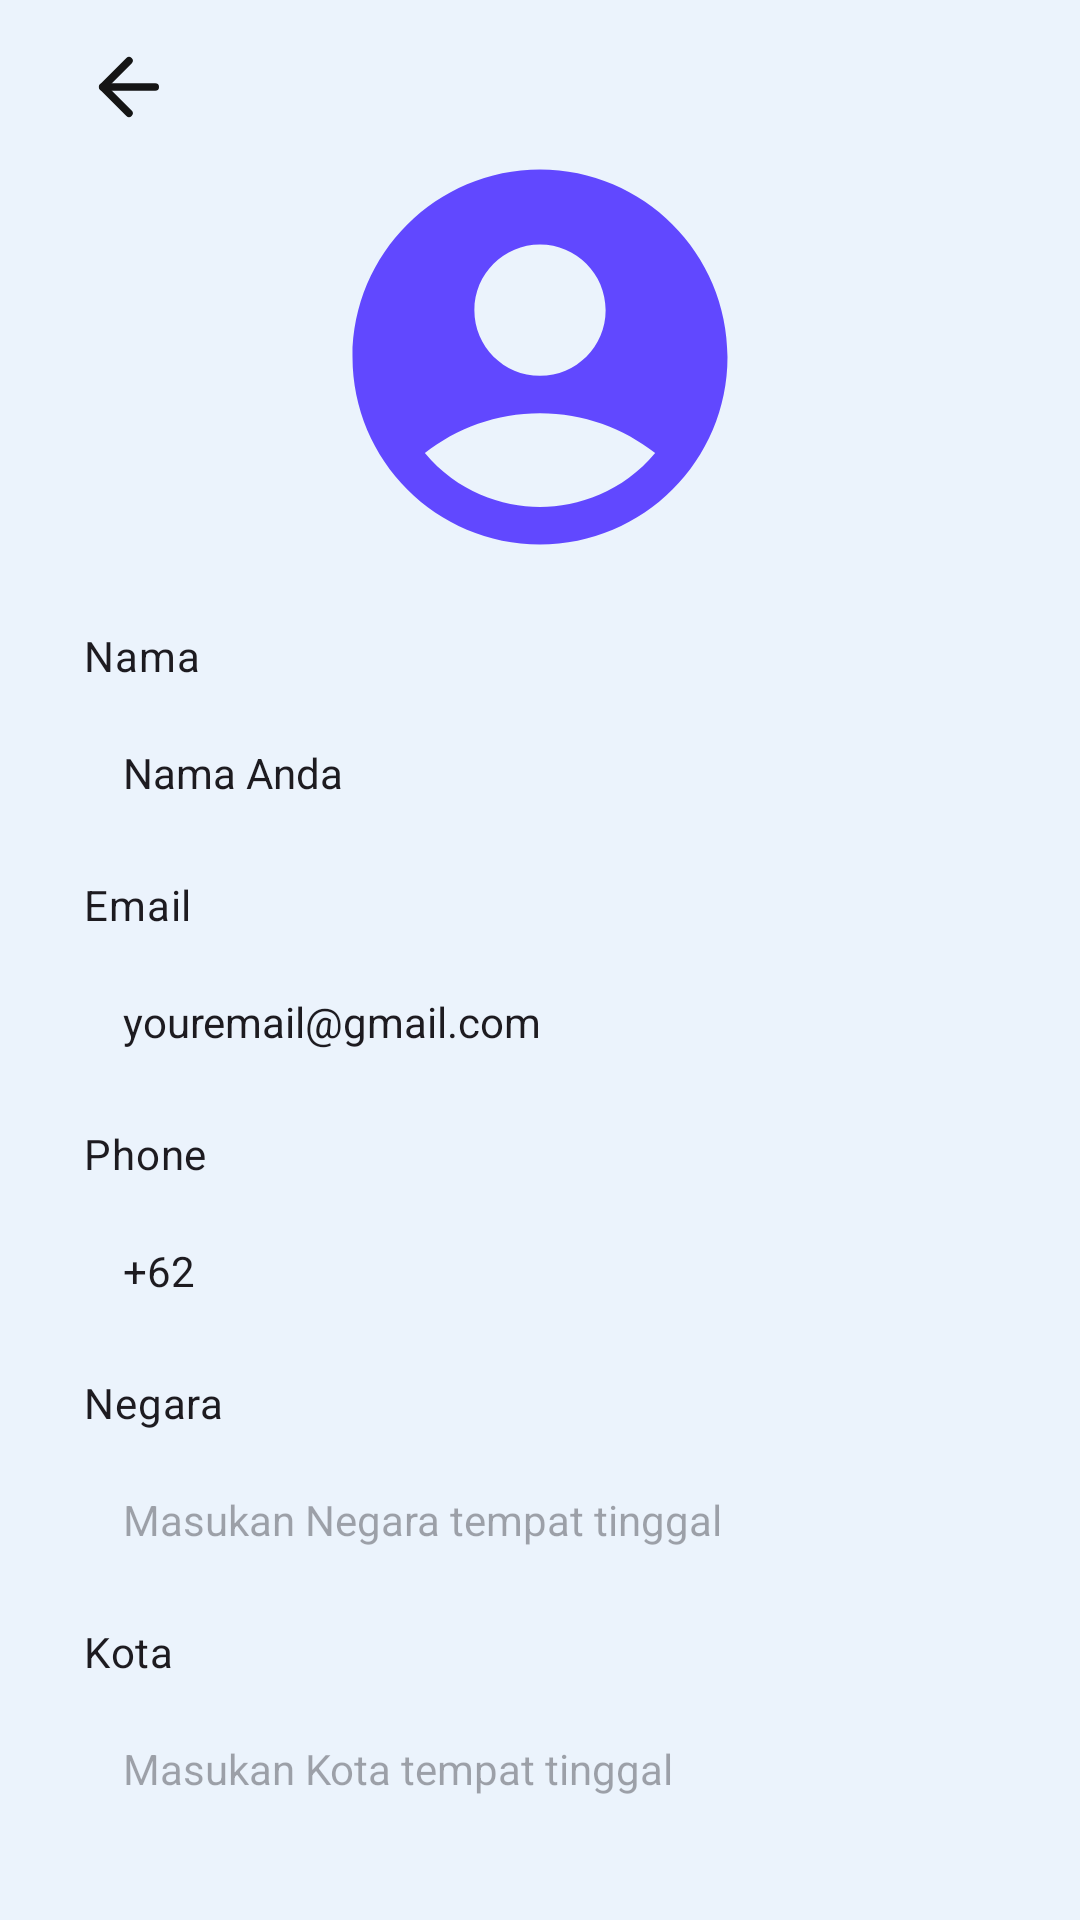

Icons on this 1080 x 1920 Android screen, each with its box as box=[x1, y1, x2, y2]:
Button Back: box=[98, 56, 159, 118]
